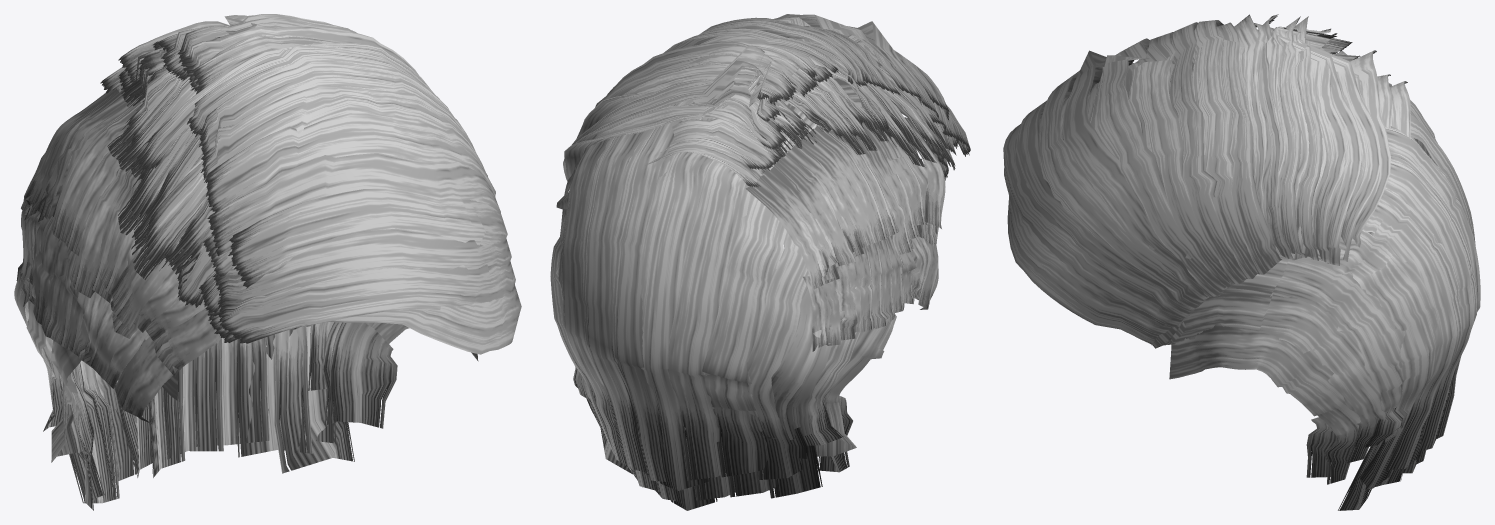
The model's file is daz_hair_pixie_chic.glb.
The picture shows the model from 3 angles, left to right: view 1: azimuth 30°, elevation 25°; view 2: azimuth 150°, elevation 25°; view 3: azimuth 270°, elevation 25°; orthographic projection. The views are drawn at different scales.
Visible parts, largest first — view 1: daz_hair_pixie_chic; view 2: daz_hair_pixie_chic; view 3: daz_hair_pixie_chic.
Boxes of the visible parts, x1=… form: daz_hair_pixie_chic: x1=14, y1=14, x2=521, y2=510; daz_hair_pixie_chic: x1=550, y1=14, x2=970, y2=510; daz_hair_pixie_chic: x1=1003, y1=14, x2=1480, y2=510.
Size of the model in its own units: 0.1714 by 0.2137 by 0.2142.
1 material, 1 textured.
